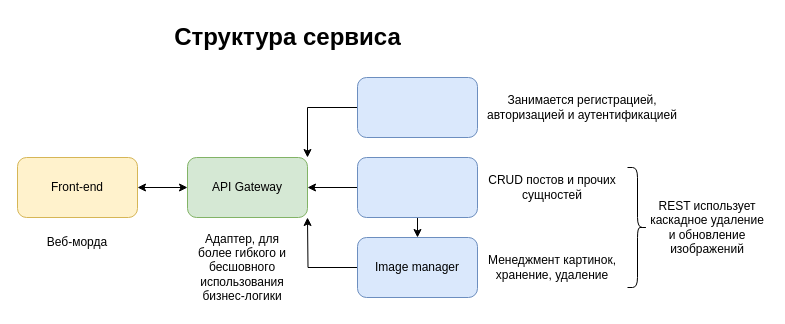
Some shapes in this 785 by 324 pixel diagram are drawn without their labels. The shapes that lost their labels are listed below. From the top down, each one's centre as x and y in pixels, then its label:
At [417,107]: "Auth Service".
At [417,187]: "Main REST Api".
